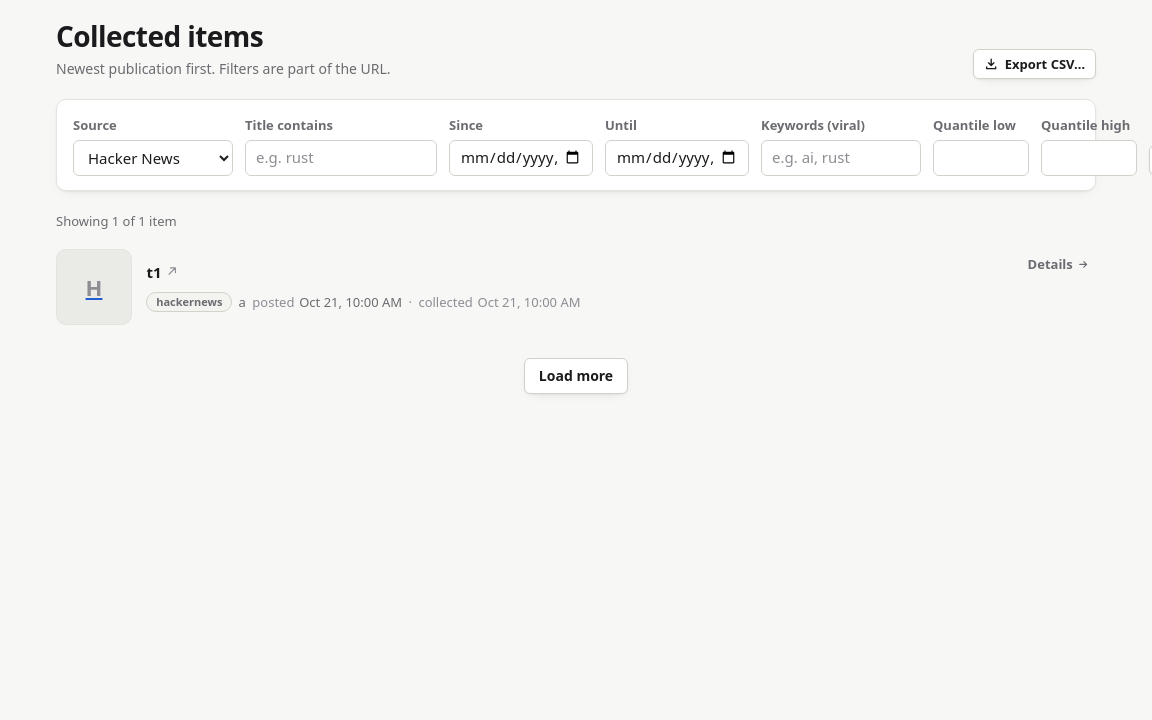
Test: ItemsView export dialog › pre-selects the platform currently filtered in the URL
Step 1. Click the button "Export CSV…" → {"x": 1034, "y": 64}, box left=973, top=49, right=1096, bottom=79
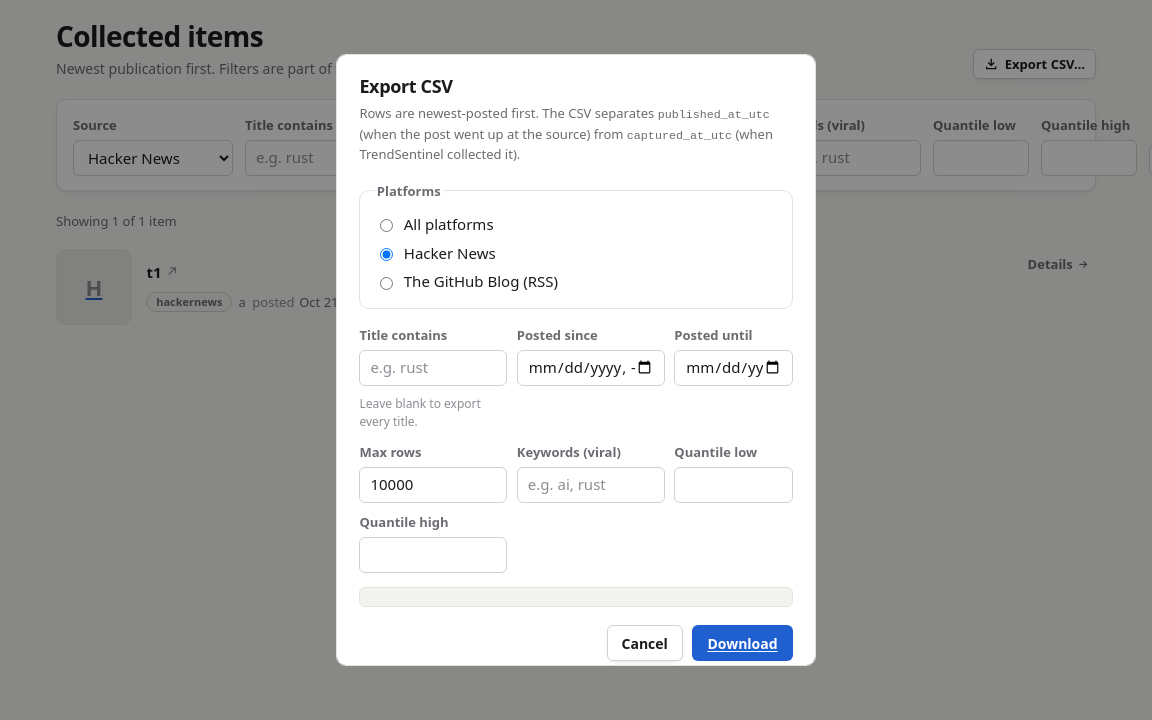
Expected: the radio button labelled "Hacker News" holds "hackernews", left=380, top=248, right=393, bottom=261
